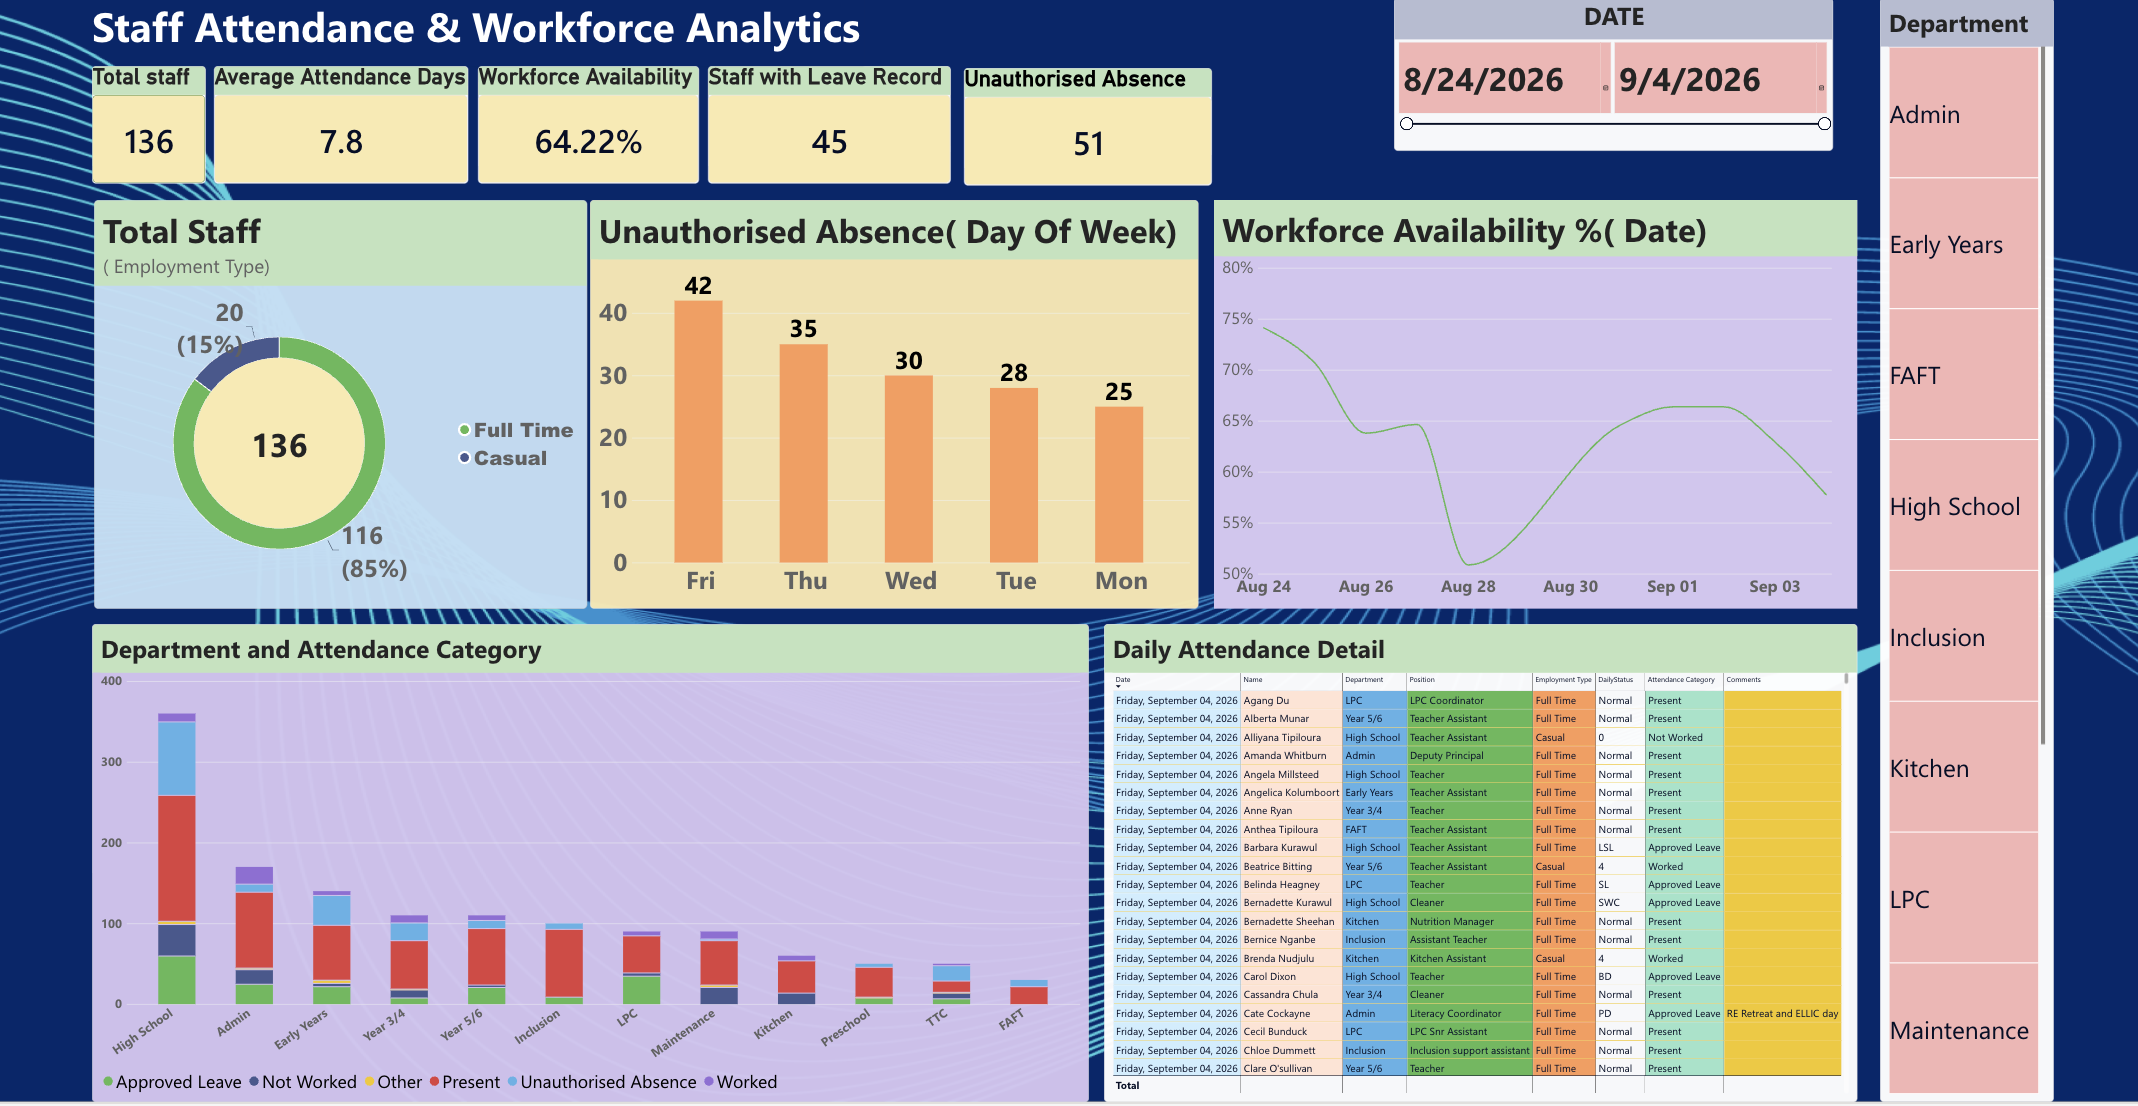

This screenshot's page, from the dashboard's own definition file:
{"tool":"powerbi","page":{"name":"Page 1","canvas":[3840,2160],"ordinal":0},"visuals":[{"type":"slicer","title":"DATE","fields":{"Values":["Dim_Date.Date"]},"box":[2551.2,0,856.1,249.5],"z":0},{"type":"listSlicer","fields":{"Values":["Timesheet.Department"]},"box":[3498,0,340.2,2160],"z":1000},{"type":"cardVisual","title":"Total staff","fields":{"Data":["Timesheet.Total Staff"]},"box":[0,132.5,222.5,230],"z":4000},{"type":"cardVisual","title":" Staff with Leave Record","fields":{"Data":["Timesheet.Staff with Leave Record"]},"box":[1205,132.5,475,230],"z":5000},{"type":"cardVisual","title":"Average Attendance Days","fields":{"Data":["Timesheet.Average Attendance Days"]},"box":[240,132.5,497.5,230],"z":6000},{"type":"cardVisual","title":"Unauthorised Absence","fields":{"Data":["Timesheet.Staff with UA"]},"box":[1705,135,485,230],"z":7000},{"type":"cardVisual","title":"Workforce Availability","fields":{"Data":["Timesheet.Workforce Availability %"]},"box":[755,132.5,432.5,230],"z":8000},{"type":"donutChart","title":"Total Staff","fields":{"Category":["Timesheet.Employment Type"],"Y":["Timesheet.Total Staff"]},"box":[5,395,965,800],"z":9000},{"type":"columnChart","title":"Department and Attendance Category","fields":{"Category":["Timesheet.Department"],"Series":["Timesheet.Attendance Category"],"Y":["CountNonNull(Timesheet.ID)"]},"box":[0,1224.6,1950.3,935.4],"z":10000},{"type":"lineChart","title":"Workforce Availability %( Date)","fields":{"Category":["Dim_Date.Date"],"Y":["Timesheet.Workforce Availability %"]},"box":[2194,396.9,1258.6,799.4],"z":12000},{"type":"clusteredColumnChart","title":"Unauthorised Absence( Day Of Week)","fields":{"Category":["Dim_Date.DayOfWeek"],"Y":["Timesheet.Staff with UA"]},"box":[975.1,396.9,1190.6,799.4],"z":13000},{"type":"textbox","box":[0,0,1510,132.5],"z":16000},{"type":"tableEx","fields":{"Values":["Timesheet.Date","Timesheet.Name","Timesheet.Department","Timesheet.Position","Timesheet.Employment Type","Timesheet.DailyStatus","Timesheet.Attendance Category","Timesheet.Comments"]},"box":[1978.6,1224.6,1474,935.4],"z":16001}]}

Visuals, with their boxes in screenshot pixels (x1, y1, x2, y2):
"DATE" slicer: pyautogui.locateOnScreen(1396, 0, 1829, 126)
listSlicer - Timesheet.Department: pyautogui.locateOnScreen(1875, 0, 2047, 1093)
"Total staff" cardVisual: pyautogui.locateOnScreen(106, 67, 218, 183)
" Staff with Leave Record" cardVisual: pyautogui.locateOnScreen(715, 67, 956, 183)
"Average Attendance Days" cardVisual: pyautogui.locateOnScreen(227, 67, 479, 183)
"Unauthorised Absence" cardVisual: pyautogui.locateOnScreen(968, 68, 1214, 185)
"Workforce Availability" cardVisual: pyautogui.locateOnScreen(488, 67, 706, 183)
"Total Staff" donutChart: pyautogui.locateOnScreen(108, 200, 596, 605)
"Department and Attendance Category" columnChart: pyautogui.locateOnScreen(106, 619, 1092, 1093)
"Workforce Availability %( Date)" lineChart: pyautogui.locateOnScreen(1216, 201, 1852, 605)
"Unauthorised Absence( Day Of Week)" clusteredColumnChart: pyautogui.locateOnScreen(599, 201, 1201, 605)
textbox: pyautogui.locateOnScreen(106, 0, 870, 67)
tableEx - Timesheet.Date x Timesheet.Name: pyautogui.locateOnScreen(1107, 619, 1852, 1093)
